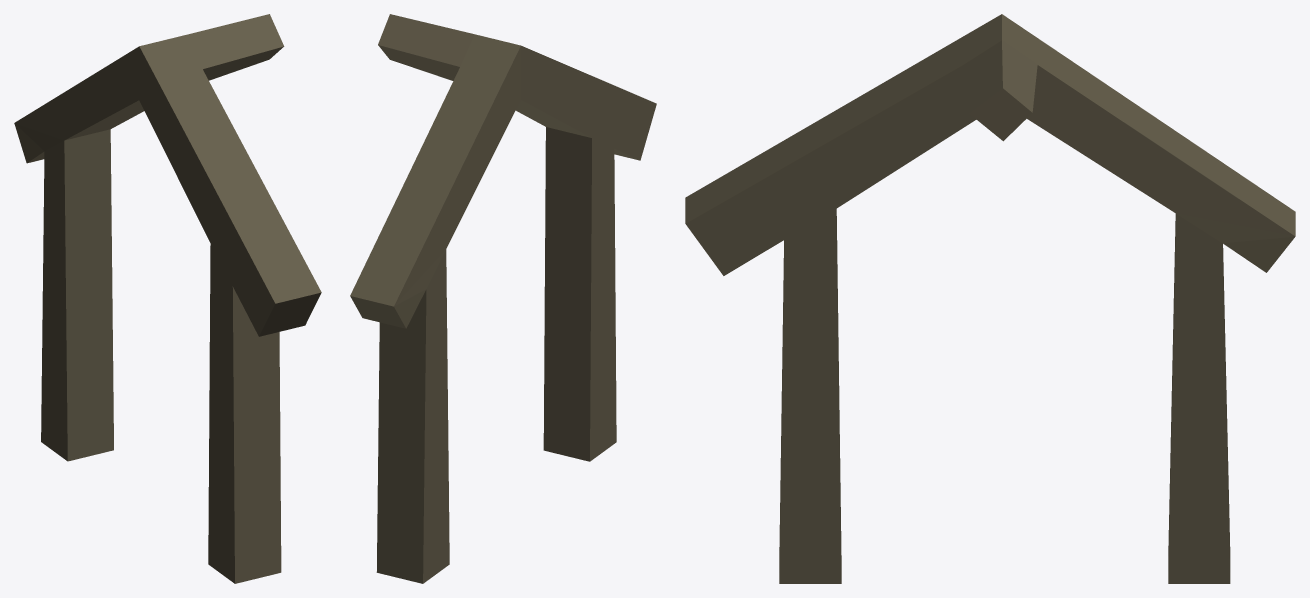
File: MineEntrance04.fbx
3 views of the same model, side by side, from view 1: azimuth 30°, elevation 25°; view 2: azimuth 150°, elevation 25°; view 3: azimuth 270°, elevation 25° (orthographic). The views are drawn at different scales.
Visible parts, largest first — view 1: MineEntrance04; view 2: MineEntrance04; view 3: MineEntrance04.
Boxes of the visible parts, x1,y1,x2,y2 form: MineEntrance04: (14, 14, 321, 583); MineEntrance04: (350, 14, 656, 583); MineEntrance04: (685, 14, 1295, 583).
Bounding box in the file's own units: 346 × 340 × 99.57.
